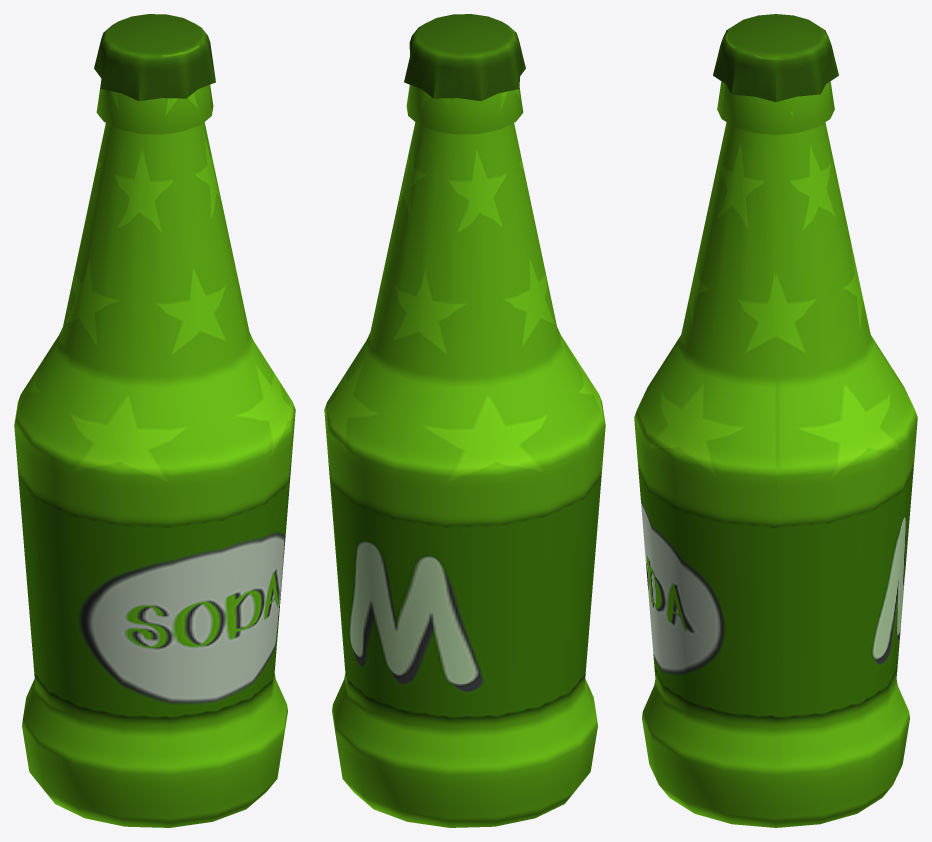
Rendered from bottledsoda_green.fbx.
The picture shows the model from 3 angles, left to right: view 1: azimuth 30°, elevation 25°; view 2: azimuth 150°, elevation 25°; view 3: azimuth 270°, elevation 25°; orthographic projection.
Parts seen in each view (by area): view 1: bottledsoda_green; view 2: bottledsoda_green; view 3: bottledsoda_green.
Part boxes in pixels (x1,y1,x2,y2): bottledsoda_green: (14,14,295,827); bottledsoda_green: (324,14,605,827); bottledsoda_green: (634,14,917,827).
Bounding box in the file's own units: 0.3385 × 0.9893 × 0.3385.
